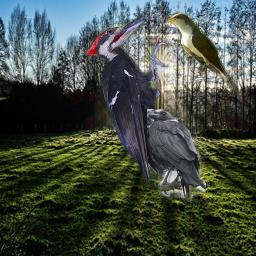Crow: (147, 109, 206, 202)
Cuckoo: (166, 11, 242, 98)
Woodpecker: (85, 12, 178, 191)
